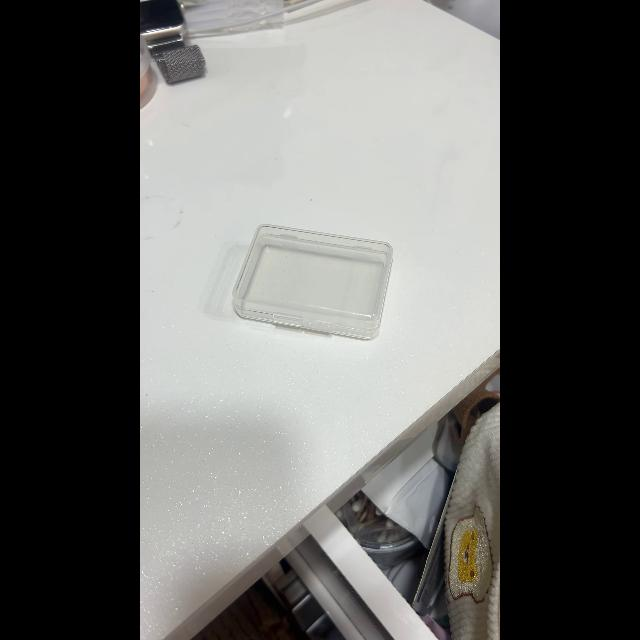clean: (236, 220, 394, 332)
